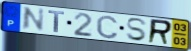2: (74, 12, 94, 38)
C: (95, 14, 119, 40)
N: (20, 6, 46, 32)
R: (146, 18, 174, 46)
S: (126, 17, 149, 42)
T: (47, 10, 66, 34)
